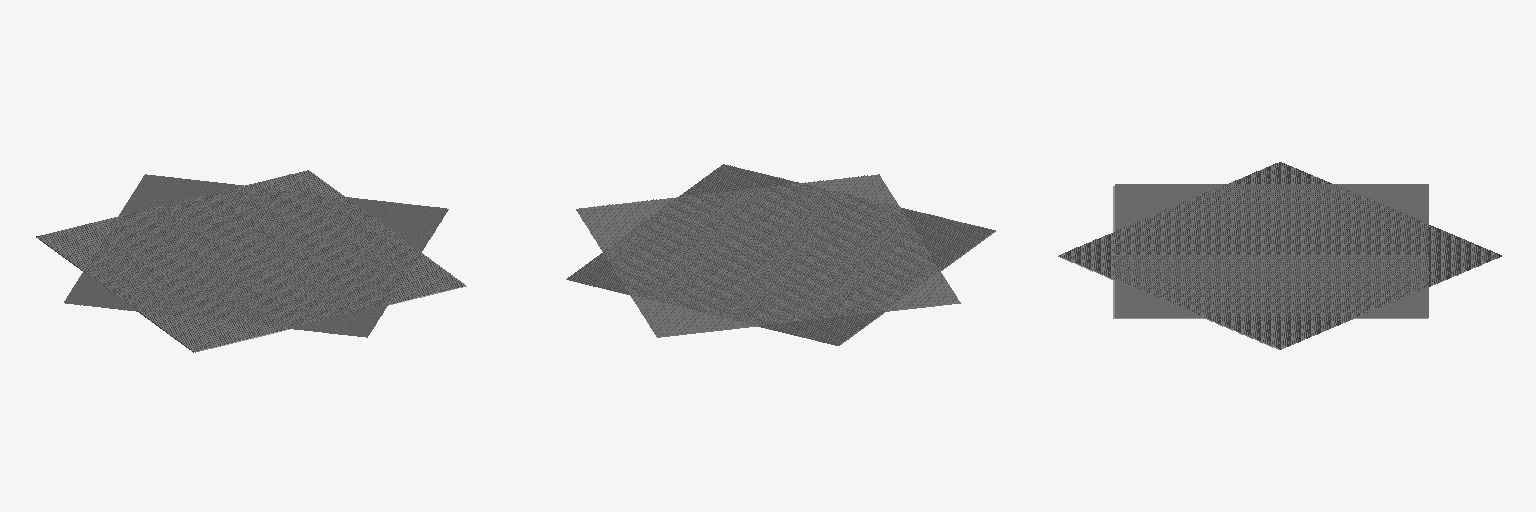
Rendered from fortest.obj.
3 views of the same model, side by side, from view 1: azimuth 30°, elevation 25°; view 2: azimuth 150°, elevation 25°; view 3: azimuth 270°, elevation 25° (orthographic).
Parts seen in each view (by area): view 1: Plane.001_Plane.005, Plane.002_Plane.003; view 2: Plane.001_Plane.005, Plane.002_Plane.003; view 3: Plane.001_Plane.005, Plane.002_Plane.003.
Boxes of the visible parts, <box> form: Plane.001_Plane.005: <box>36,170,464,352</box>; Plane.002_Plane.003: <box>37,171,464,351</box>; Plane.001_Plane.005: <box>567,164,995,345</box>; Plane.002_Plane.003: <box>570,165,995,345</box>; Plane.001_Plane.005: <box>1059,162,1501,349</box>; Plane.002_Plane.003: <box>1058,162,1501,349</box>.
Size of the model in its own units: 28.27 by 0.1 by 28.25.